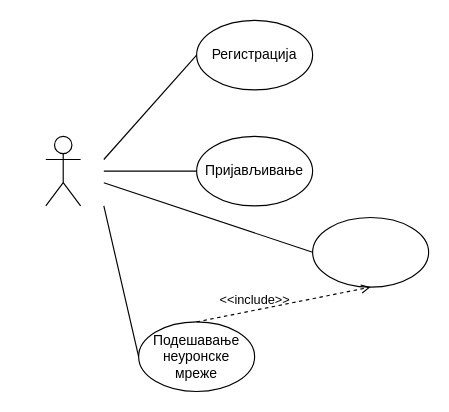
The diagram is 449 pixels wide and 412 high, and some of its shapes have lost their labels. Each missing label, with the box of its shape:
Непријављен корисник: (45, 135, 81, 206)
Припрема података: (311, 216, 429, 287)
